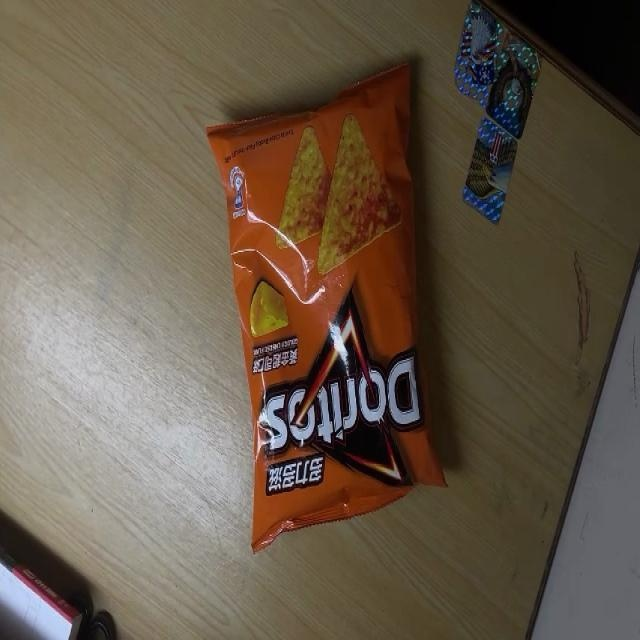Doritos: (206, 54, 448, 554)
